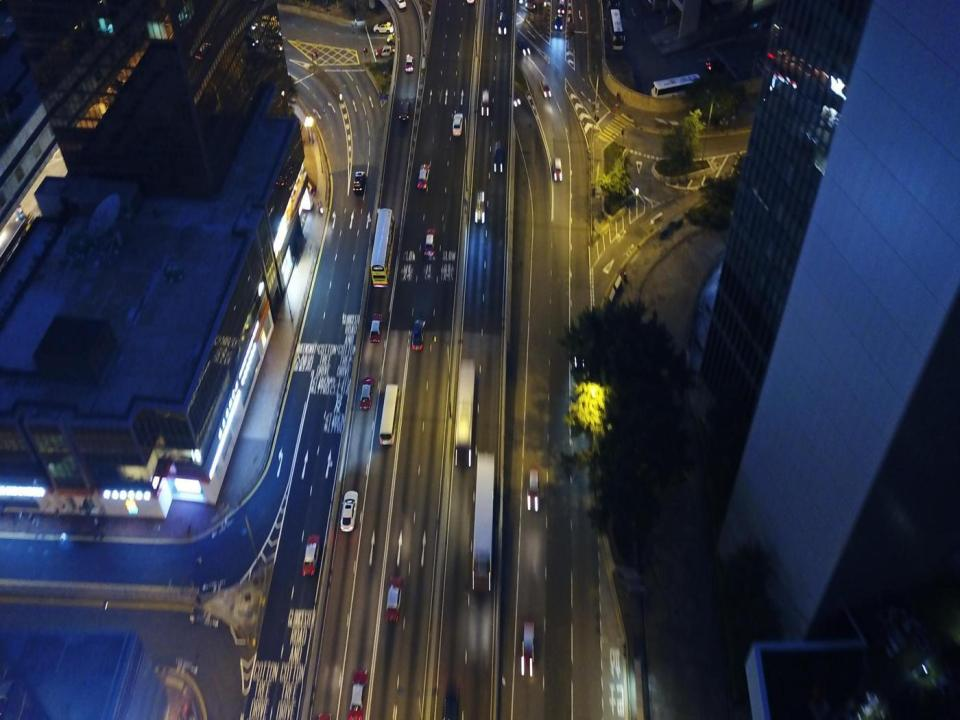bus: (472, 453, 494, 590), (455, 360, 475, 468), (370, 208, 395, 287), (379, 384, 401, 444), (652, 73, 702, 99), (610, 9, 625, 49)
car: (349, 670, 368, 718), (520, 621, 535, 677), (570, 327, 588, 373), (386, 576, 403, 622), (302, 534, 320, 576), (340, 490, 357, 532), (527, 466, 539, 511), (360, 376, 374, 408), (412, 320, 425, 350), (370, 314, 382, 343), (424, 227, 435, 256), (416, 165, 429, 189), (515, 37, 530, 56), (353, 171, 365, 193), (494, 140, 502, 172), (452, 113, 463, 136), (376, 46, 400, 56), (539, 78, 551, 98), (507, 91, 521, 107), (498, 11, 507, 35), (399, 100, 409, 121), (554, 156, 562, 182), (705, 61, 727, 70), (406, 53, 414, 71), (554, 15, 562, 30), (557, 0, 564, 14), (395, 0, 407, 8)
van: (373, 22, 394, 33), (386, 34, 408, 43), (482, 90, 489, 116)
